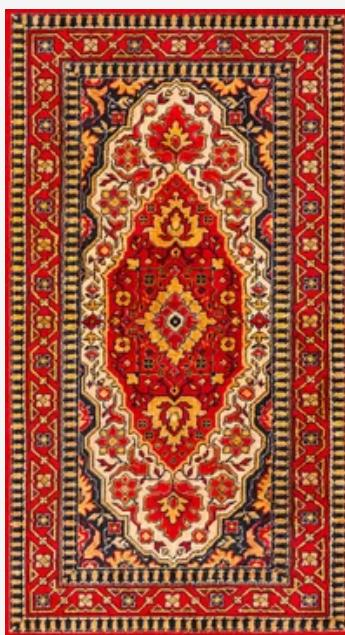carpet: (6, 10, 344, 635)
